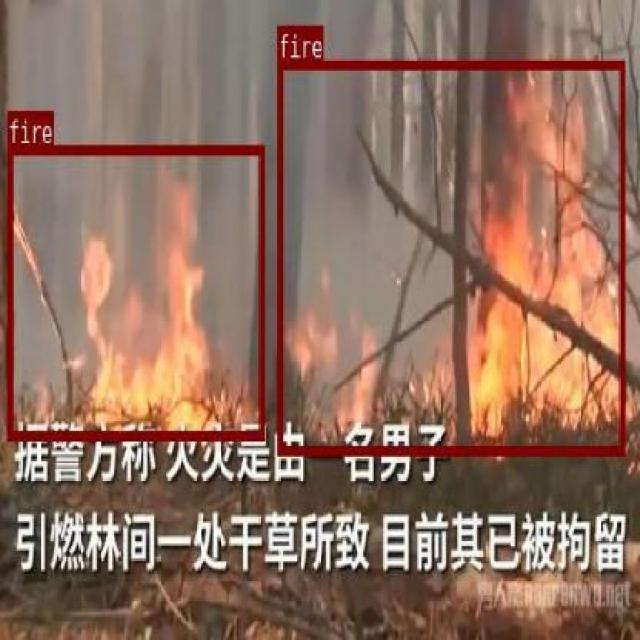Fire: (276, 59, 624, 453), (6, 143, 263, 440)
